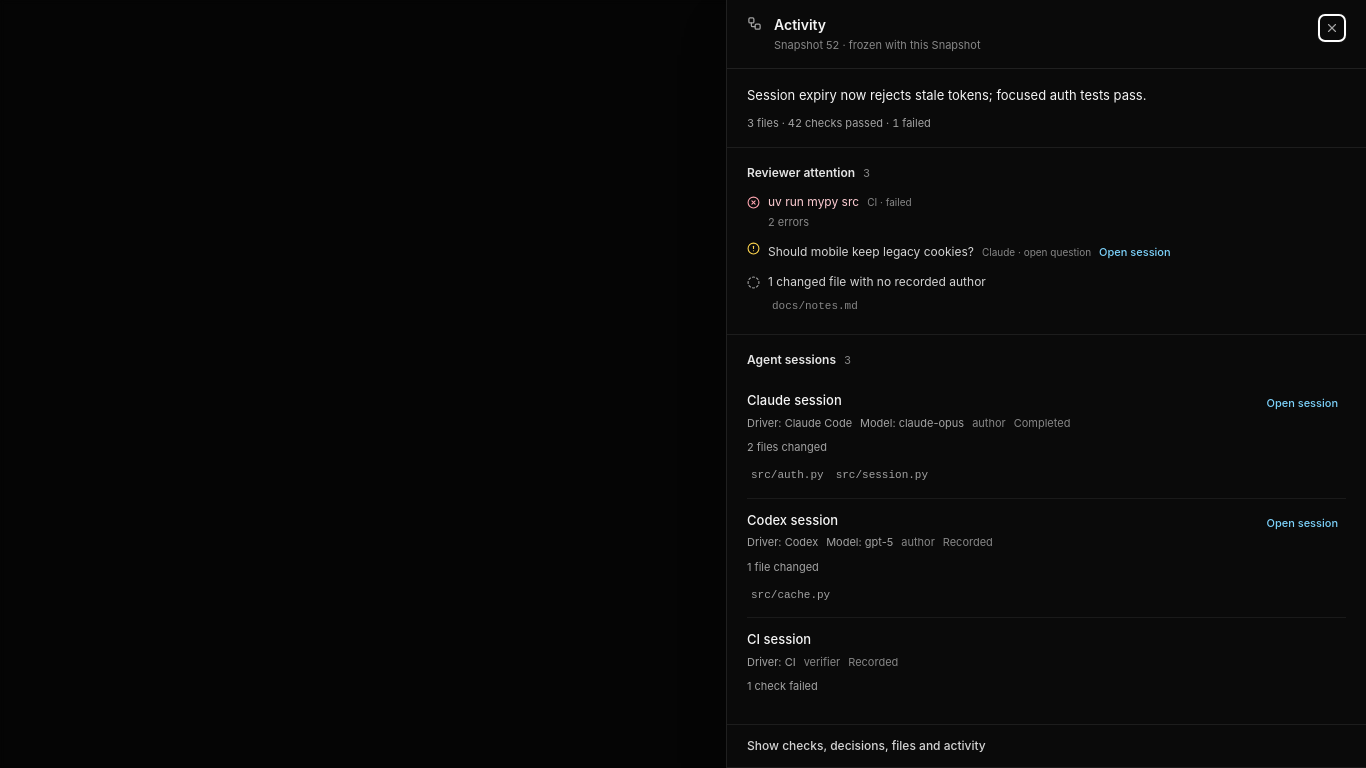
ReviewDevelopmentSheet › renders the server projection: summary, attention, contributors, verification and feedback
The image size is (1366, 768).
Expected: the text "Snapshot 52 · frozen with this Snapshot" is shown, [774, 38, 980, 52]
Expected: the text "Session expiry now rejects stale tokens; focused auth tests pass." is shown, [747, 86, 1146, 102]
Click the button "Show checks, decisions, files and activity" at (763, 746), box [727, 725, 1365, 767]
(page scrolled)
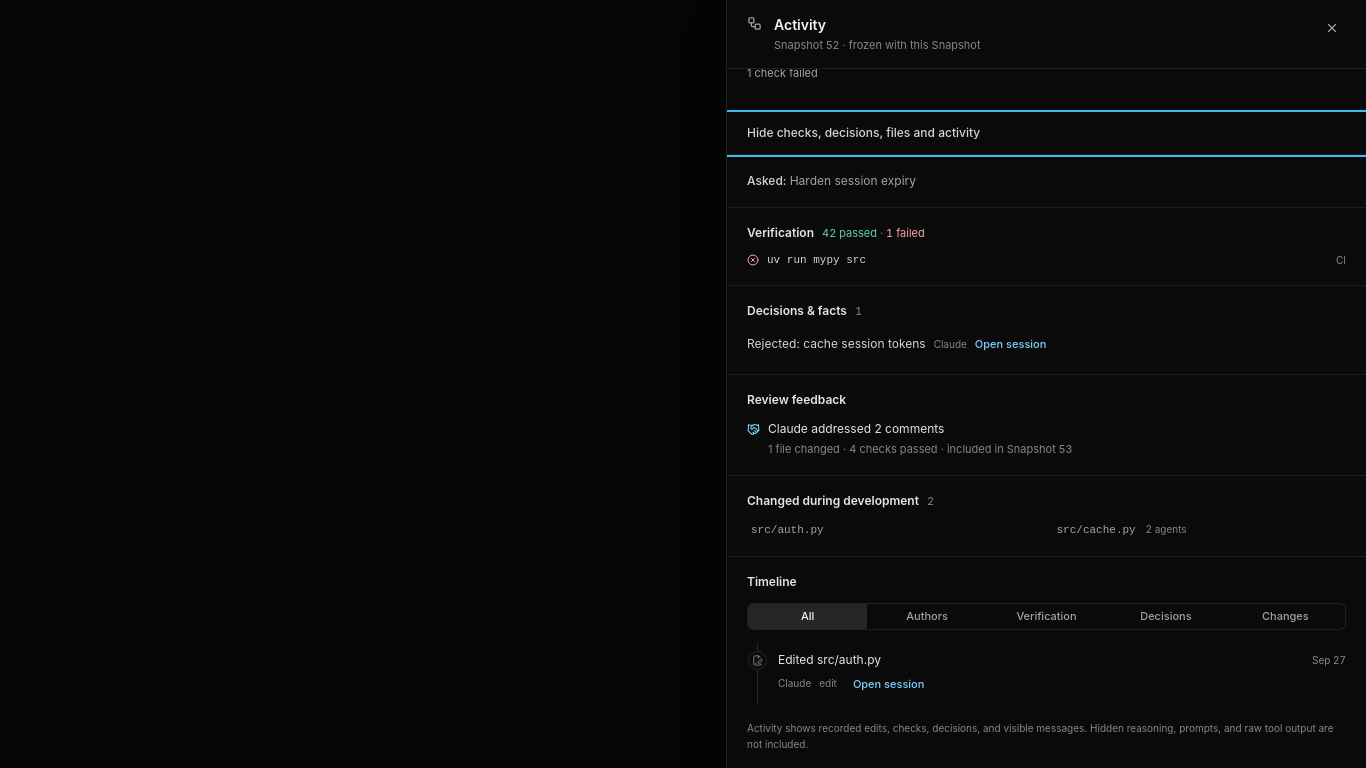
Expected: the text "Harden session expiry" is shown, [790, 173, 916, 188]
Expected: the text "Claude addressed 2 comments" is shown, [768, 420, 944, 436]
Expected: the text "1 file changed · 4 checks passed · included in Snapshot 53" is shown, [768, 438, 1072, 458]
